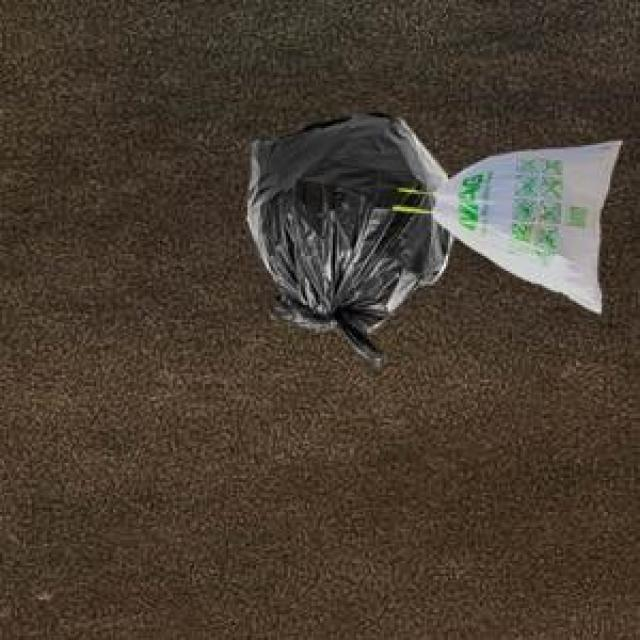miscellaneous trash: (243, 109, 450, 363)
